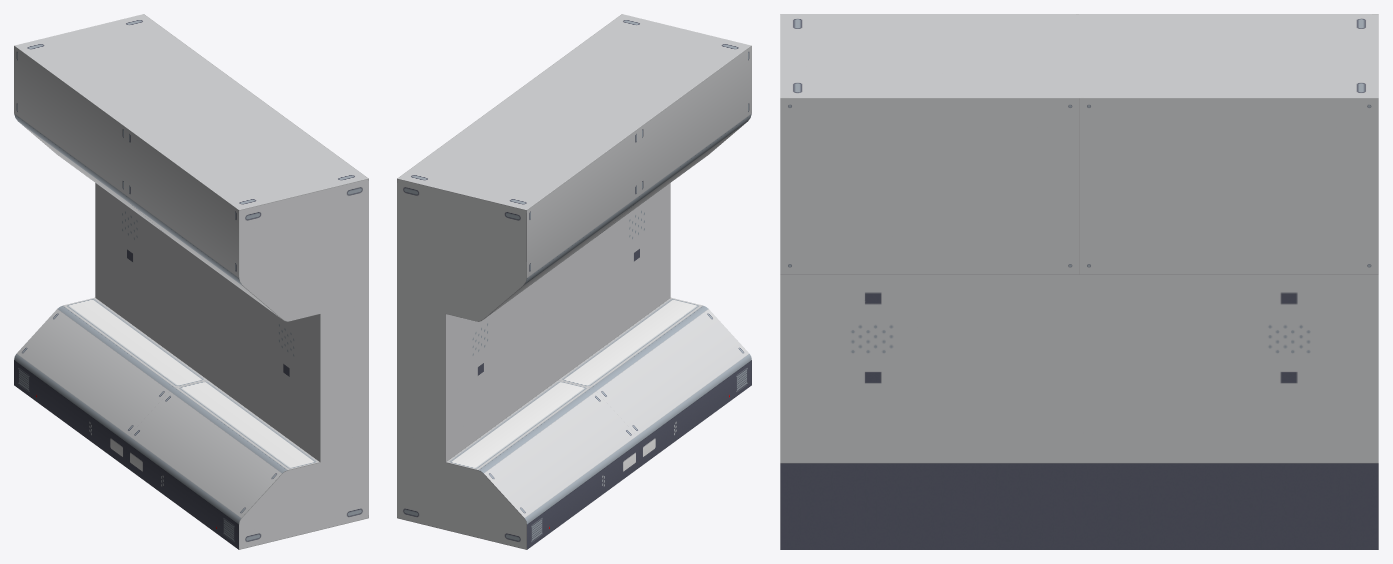
The model's file is Wall_Normal_Simple_02.FBX.
3 views of the same model, side by side, from view 1: azimuth 30°, elevation 25°; view 2: azimuth 150°, elevation 25°; view 3: azimuth 270°, elevation 25° (orthographic). The views are drawn at different scales.
Visible parts, largest first — view 1: Wall_Normal_Simple_02; view 2: Wall_Normal_Simple_02; view 3: Wall_Normal_Simple_02.
Part boxes in pixels (x1,y1,x2,y2): Wall_Normal_Simple_02: [14, 14, 368, 549]; Wall_Normal_Simple_02: [397, 14, 751, 549]; Wall_Normal_Simple_02: [780, 14, 1378, 549].
Bounding box in the file's own units: 2 × 5 × 6.
Materials: 2 (2 with a texture image).
